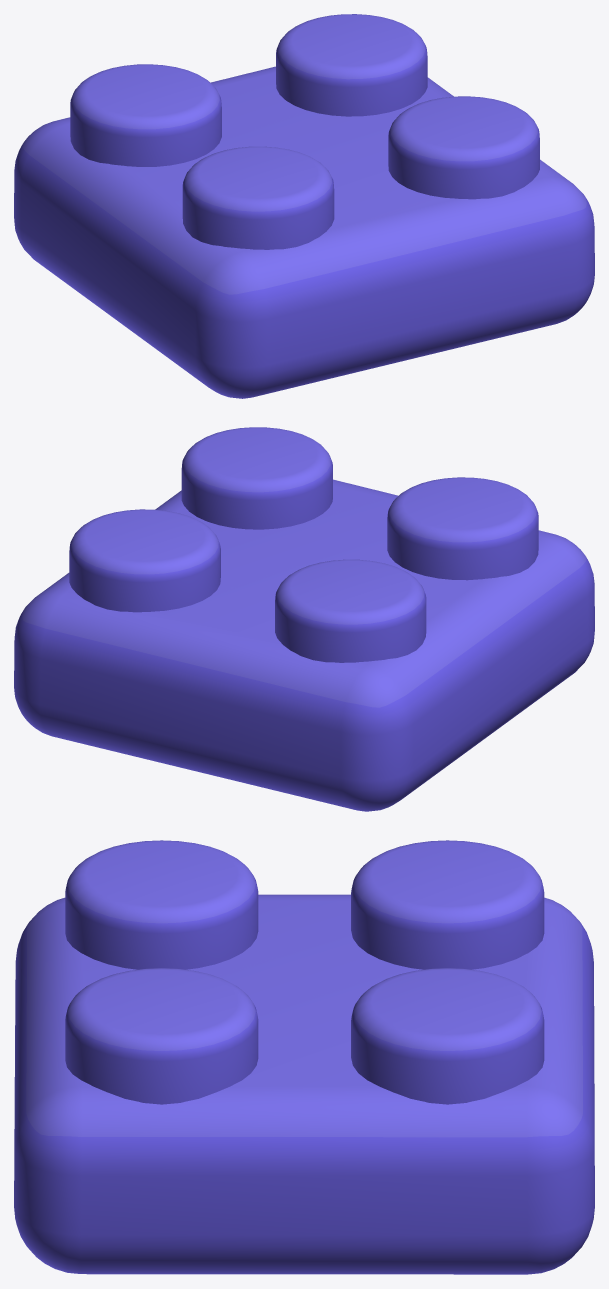
Rendered from LegoPurple.fbx.
3 renders of one model, top to bottom at view 1: azimuth 30°, elevation 25°; view 2: azimuth 150°, elevation 25°; view 3: azimuth 270°, elevation 25°, orthographic. The views are drawn at different scales.
Visible parts, largest first — view 1: LegoPurple; view 2: LegoPurple; view 3: LegoPurple.
Part boxes in pixels (left/top/right/bottom): LegoPurple: left=14, top=14, right=594, bottom=398; LegoPurple: left=14, top=427, right=594, bottom=811; LegoPurple: left=14, top=840, right=594, bottom=1274.
Bounding box in the file's own units: 196 × 89.03 × 198.
1 material, 1 textured.
